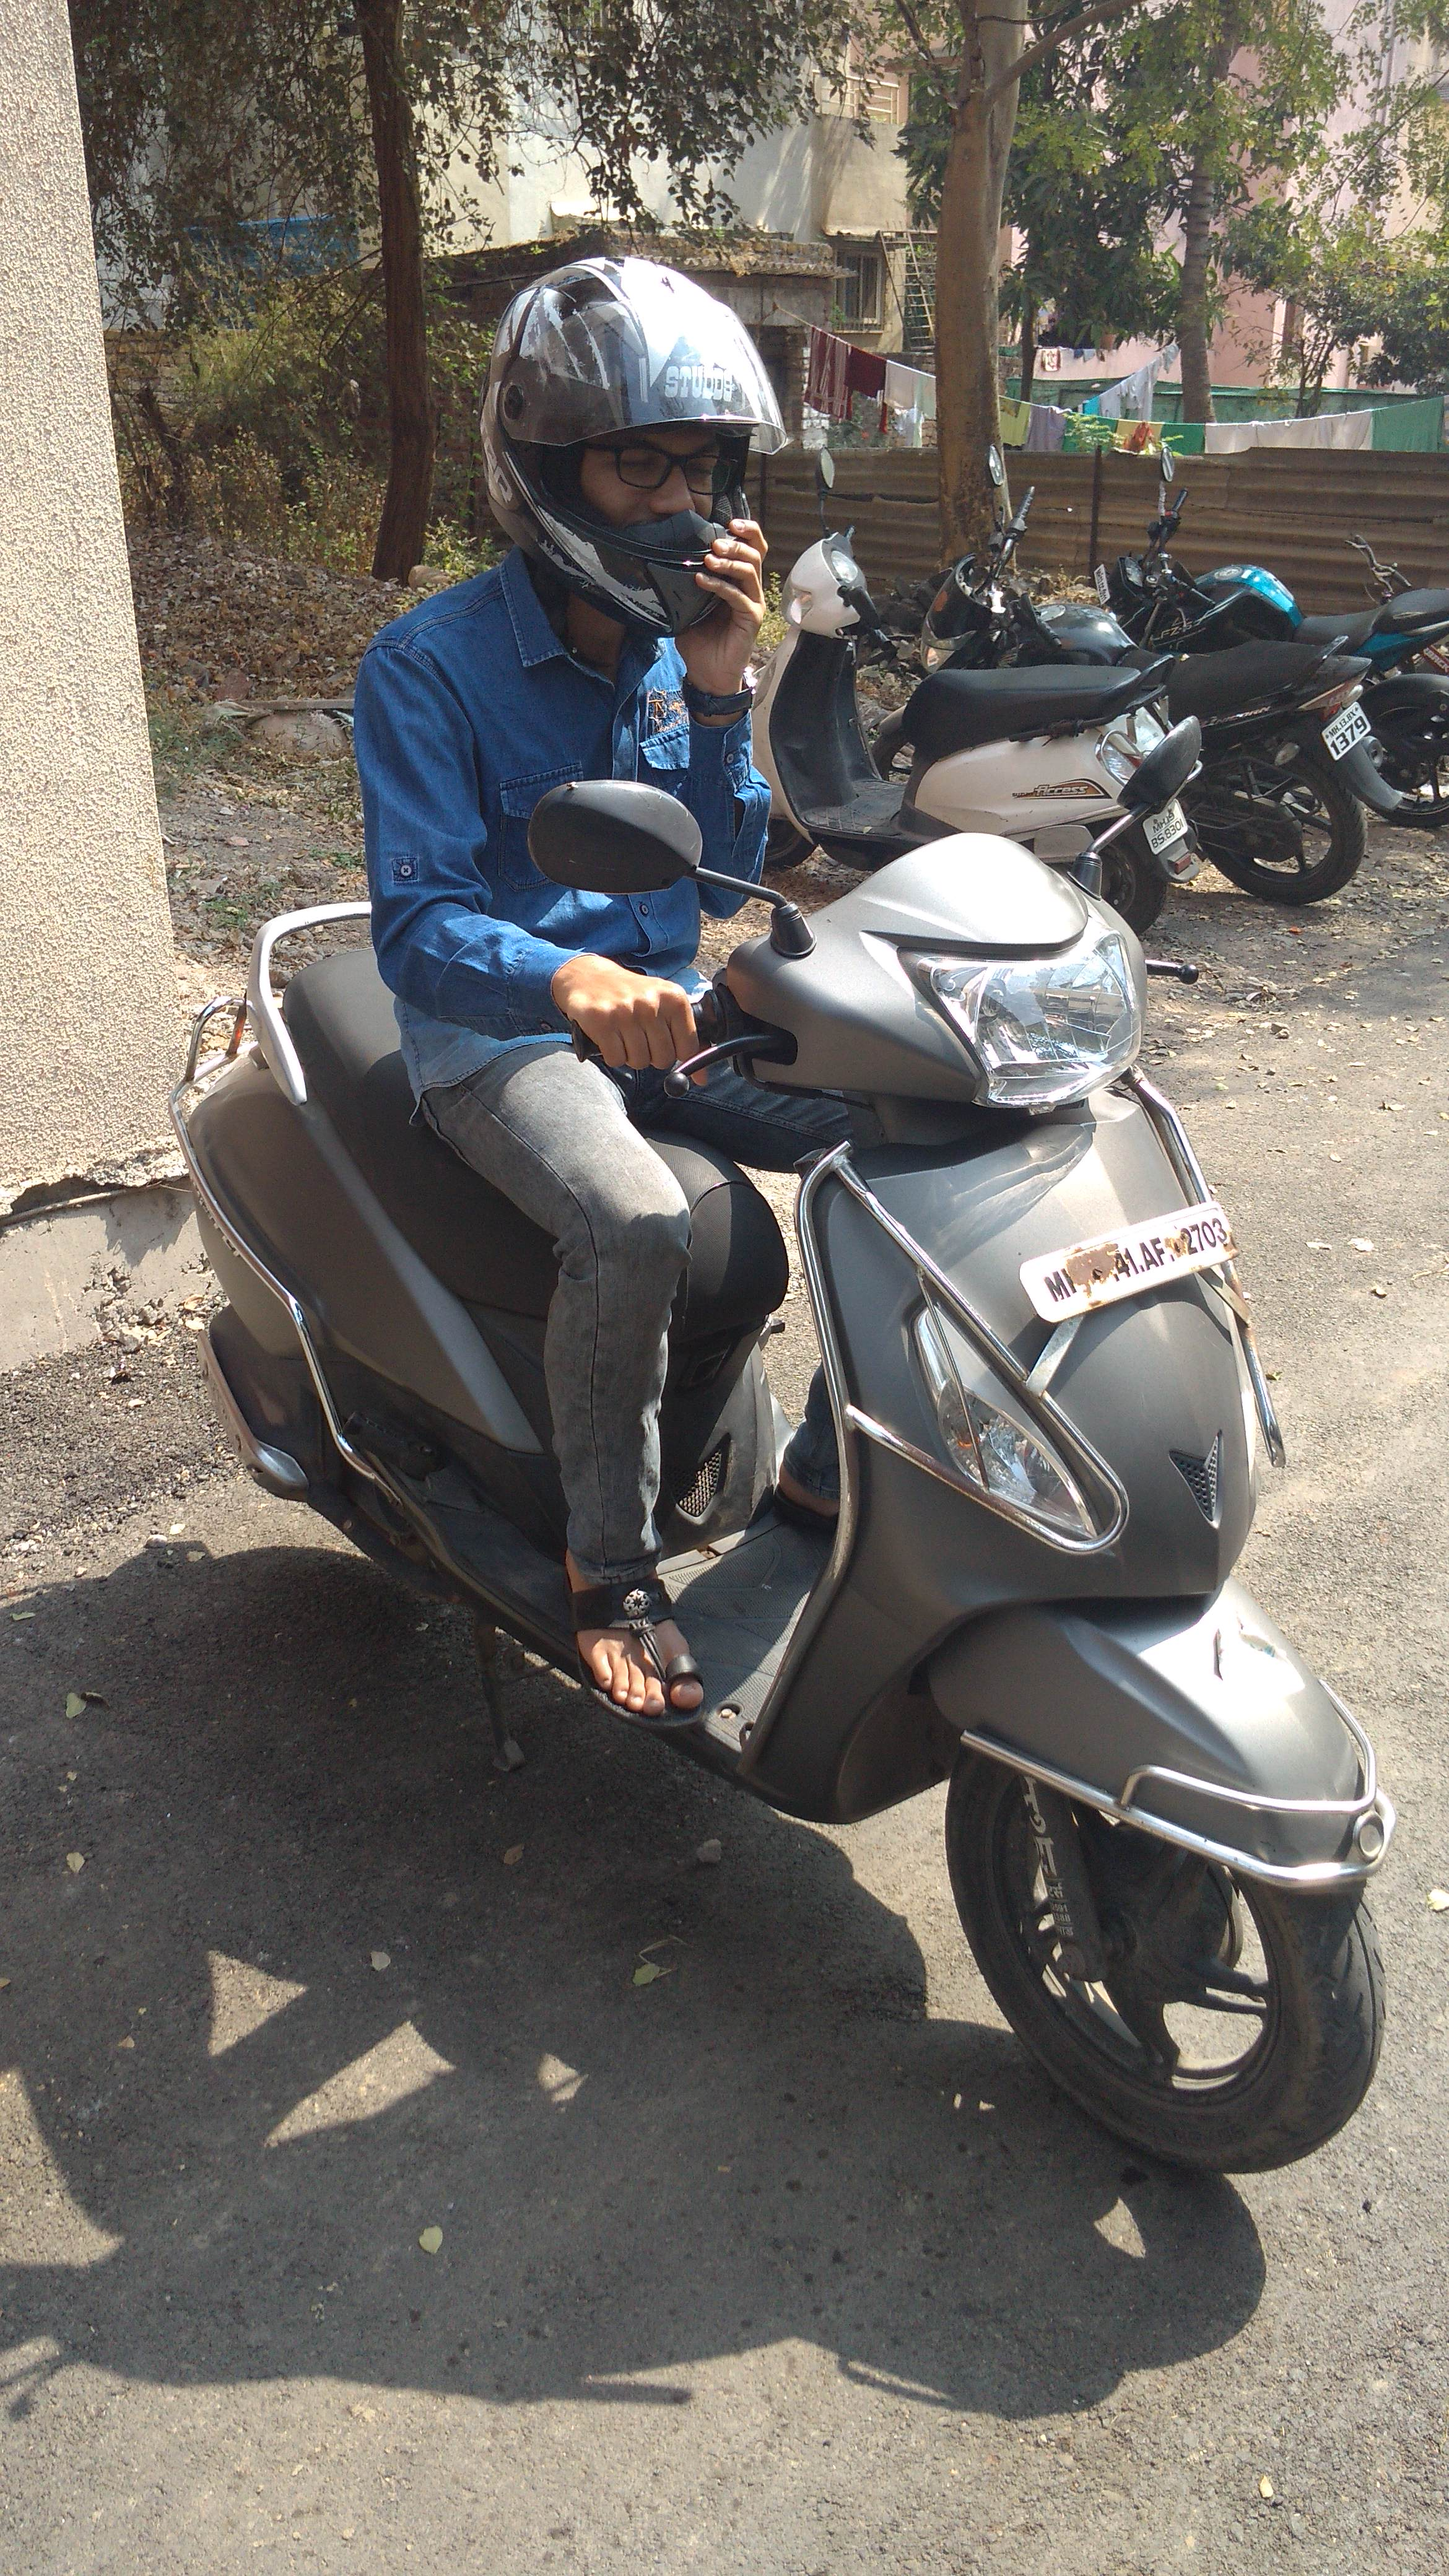helmet: (258, 214, 1116, 1656)
